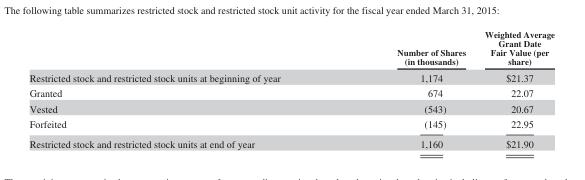table: (28, 28, 554, 149)
table column: (28, 28, 338, 149), (338, 28, 474, 149), (474, 28, 554, 149)
table column header: (28, 28, 554, 68)
table row: (28, 28, 554, 68), (28, 115, 554, 133), (28, 68, 554, 85), (28, 133, 554, 149), (28, 85, 554, 100), (28, 100, 554, 115)
